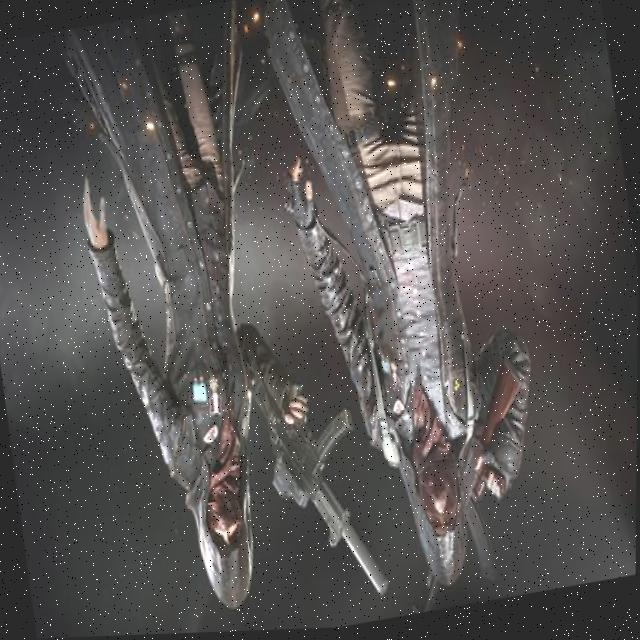firearm: (382, 362, 551, 618), (255, 375, 390, 614)
